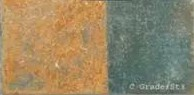Corrosion: (1, 1, 109, 95)
